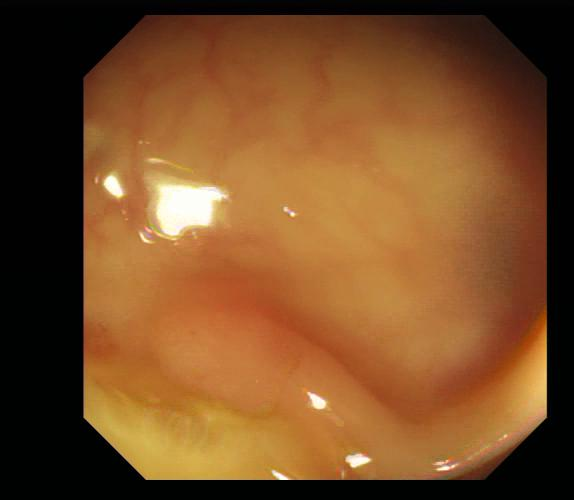polyp: (162, 295, 496, 477)
